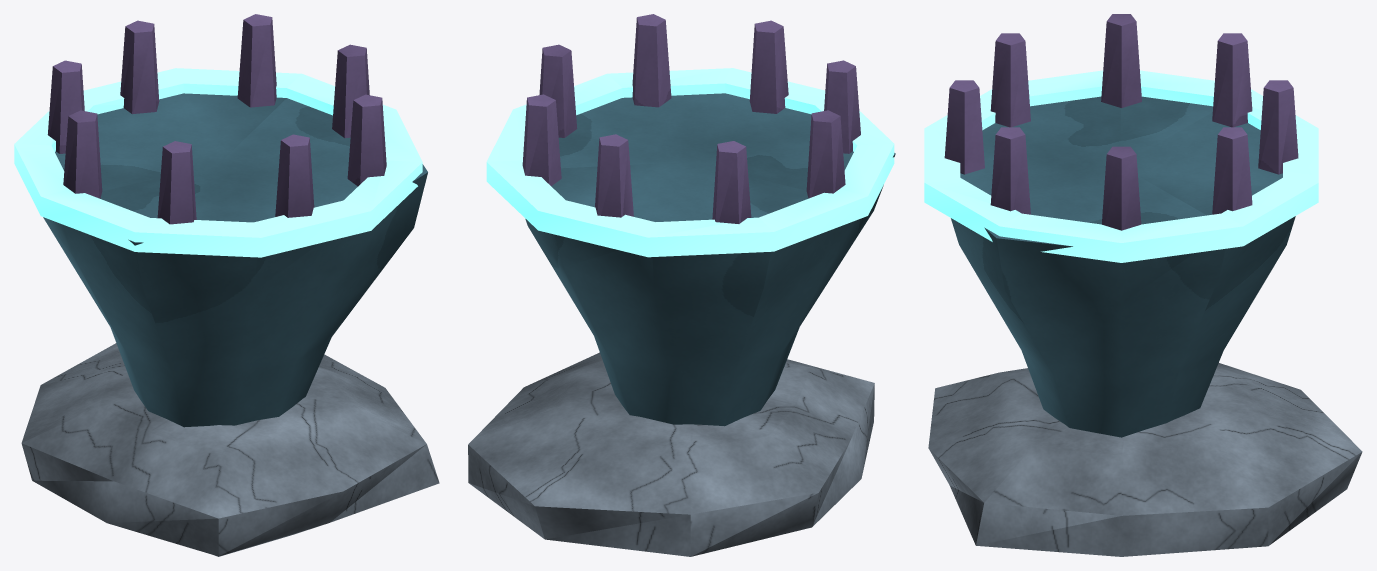
Rendered from cup_anemone.glb.
The picture shows the model from 3 angles, left to right: view 1: azimuth 30°, elevation 25°; view 2: azimuth 150°, elevation 25°; view 3: azimuth 270°, elevation 25°; orthographic projection.
Parts seen in each view (by area): view 1: DL009_CupAnemone_flora_body, DL009_CupAnemone_stone_blue, DL009_CupAnemone_emissive_teal, DL009_CupAnemone_flora_violet; view 2: DL009_CupAnemone_flora_body, DL009_CupAnemone_stone_blue, DL009_CupAnemone_emissive_teal, DL009_CupAnemone_flora_violet; view 3: DL009_CupAnemone_flora_body, DL009_CupAnemone_stone_blue, DL009_CupAnemone_flora_violet, DL009_CupAnemone_emissive_teal.
Part boxes in pixels (x1,y1,x2,y2): DL009_CupAnemone_flora_body: (43,93,427,427); DL009_CupAnemone_stone_blue: (21,343,439,556); DL009_CupAnemone_emissive_teal: (14,68,422,257); DL009_CupAnemone_flora_violet: (47,14,386,224); DL009_CupAnemone_flora_body: (525,93,895,426); DL009_CupAnemone_stone_blue: (468,352,874,556); DL009_CupAnemone_emissive_teal: (486,68,894,257); DL009_CupAnemone_flora_violet: (522,14,860,223); DL009_CupAnemone_flora_body: (951,96,1295,437); DL009_CupAnemone_stone_blue: (928,363,1362,556); DL009_CupAnemone_flora_violet: (944,14,1298,230); DL009_CupAnemone_emissive_teal: (924,70,1318,262).
Bounding box in the file's own units: 1.32 × 1.51 × 1.39.
Materials: 4 (3 with a texture image).
